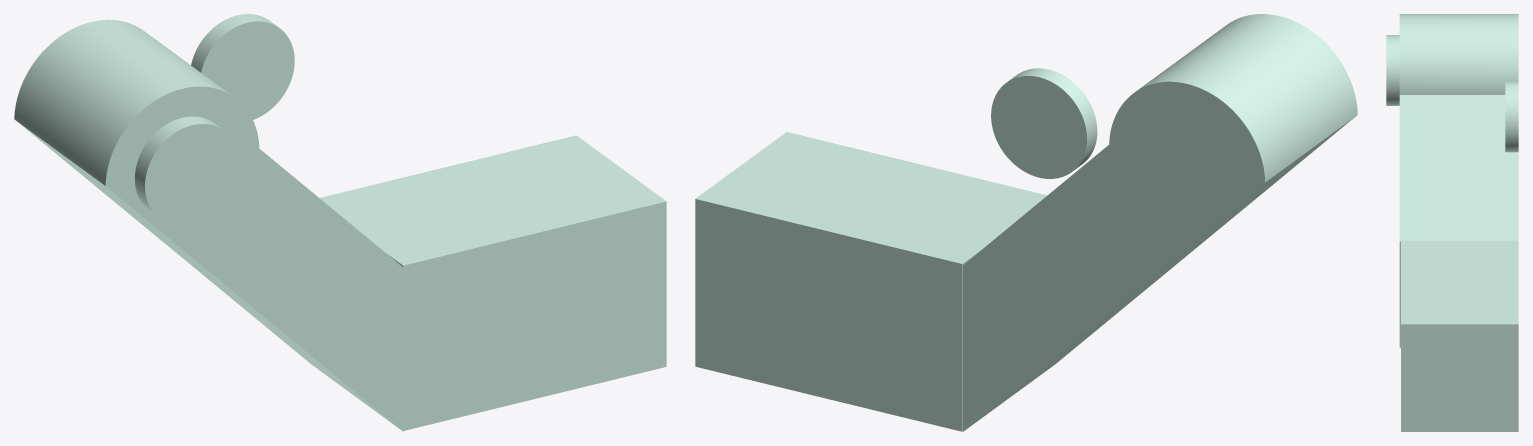
The picture shows the model from 3 angles, left to right: view 1: azimuth 30°, elevation 25°; view 2: azimuth 150°, elevation 25°; view 3: azimuth 270°, elevation 25°; orthographic projection. The views are drawn at different scales.
Visible parts, largest first — view 1: Renderer Node; view 2: Renderer Node; view 3: Renderer Node.
Boxes of the visible parts, x1=… form: Renderer Node: x1=14, y1=14, x2=666, y2=431; Renderer Node: x1=695, y1=14, x2=1357, y2=431; Renderer Node: x1=1386, y1=14, x2=1518, y2=431.
Size of the model in its own units: 0.75 by 0.5064 by 0.2344.
